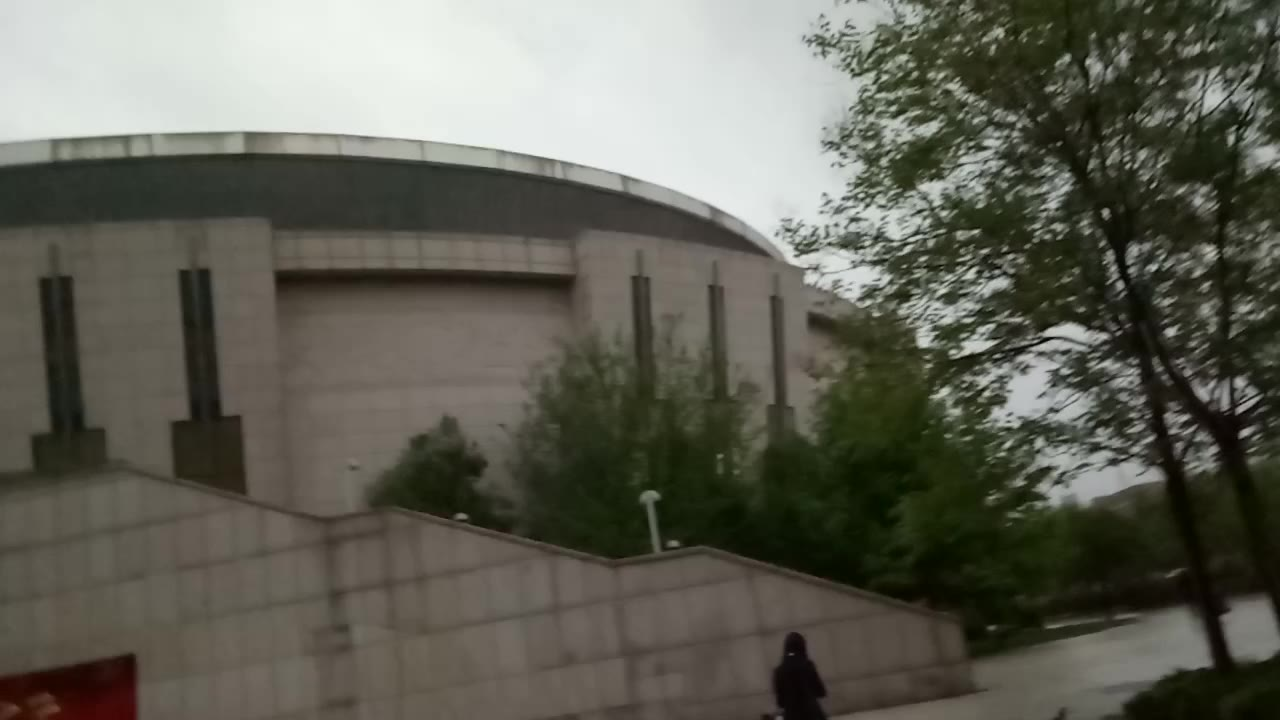zhongtiww: (6, 124, 980, 720)
